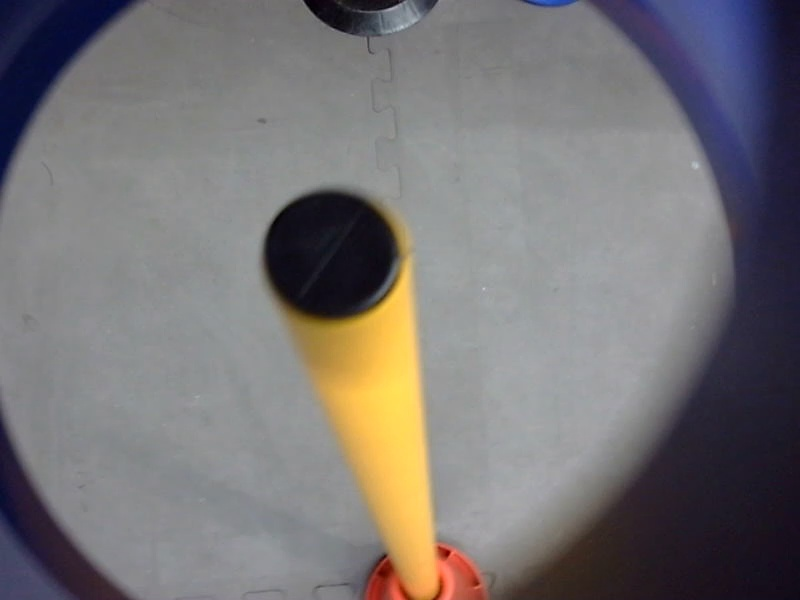tip: (252, 180, 419, 334)
